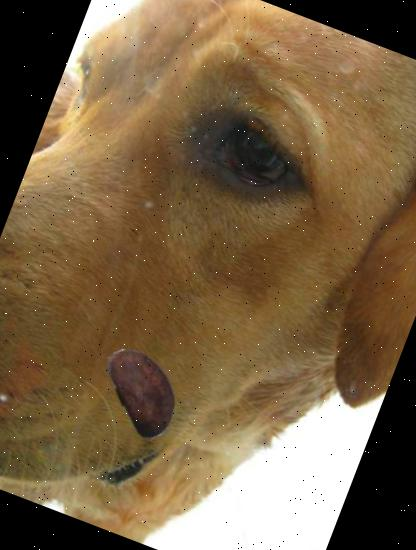Chestnut: (83, 330, 206, 453)
